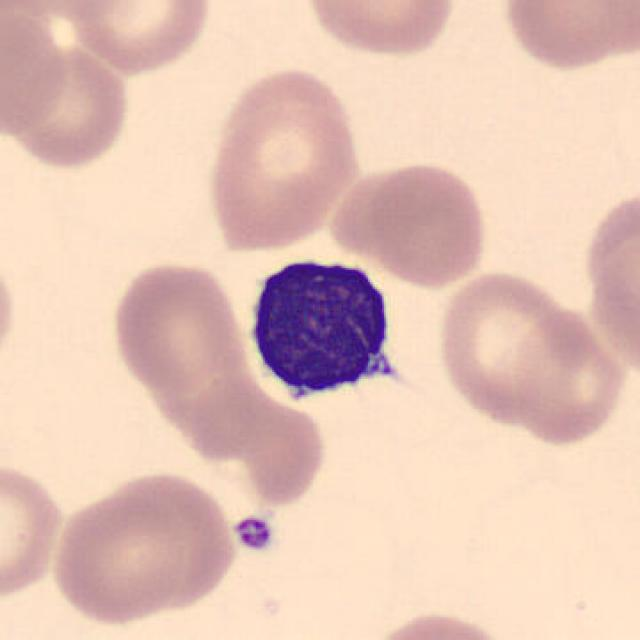Lymphocyte: (236, 242, 418, 414)
Platelets: (230, 512, 278, 556)
RBC: (201, 62, 364, 255), (46, 467, 242, 626), (432, 266, 604, 434), (327, 157, 494, 289), (107, 257, 247, 395), (502, 304, 630, 452), (4, 35, 135, 175), (183, 375, 324, 503), (578, 174, 638, 388), (62, 0, 215, 76), (496, 0, 638, 74), (0, 455, 68, 606), (298, 0, 458, 60), (2, 4, 71, 140), (359, 608, 517, 640), (0, 243, 21, 380)
